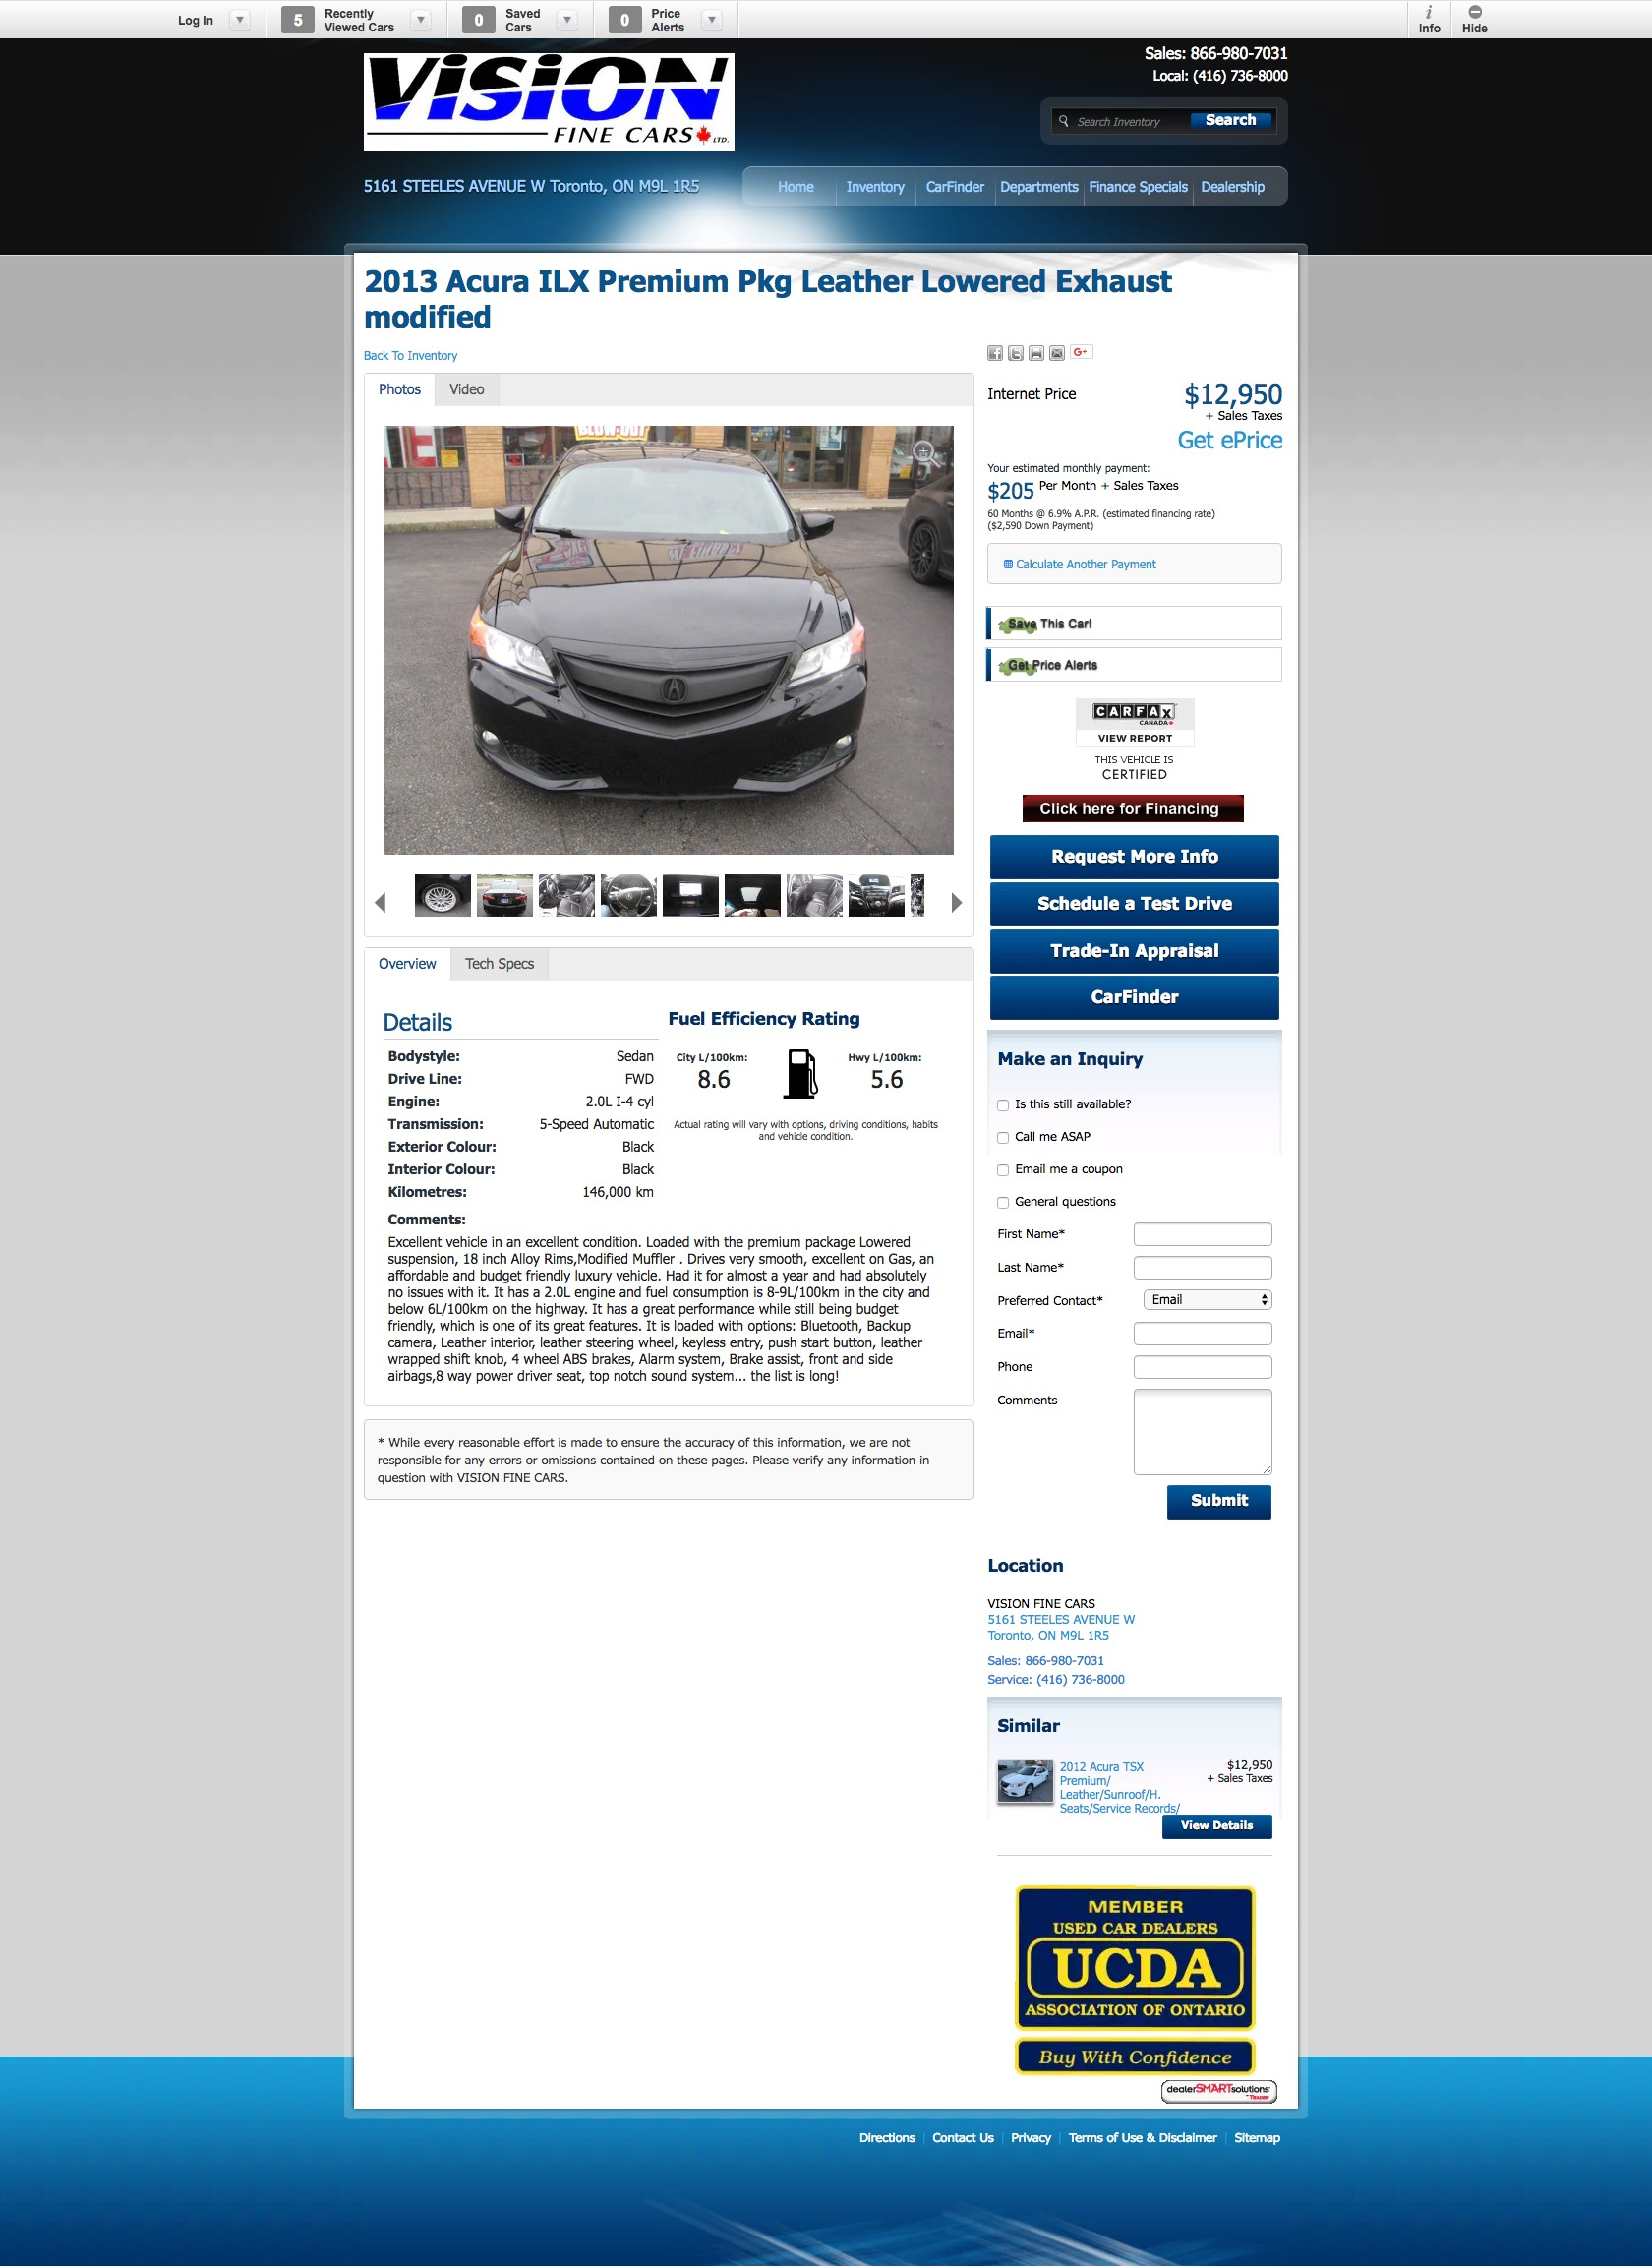car: (952, 892, 964, 915)
